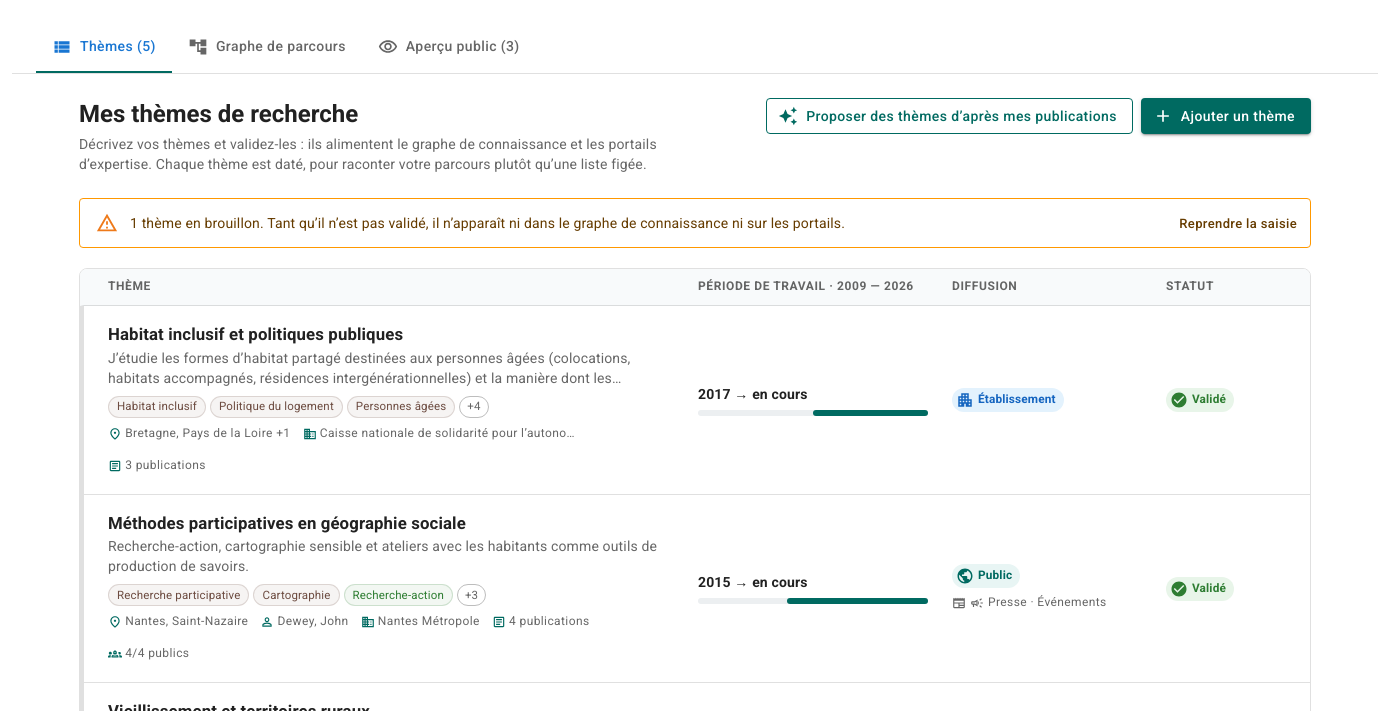
Test case: ExpertiseV2Page › ouvre l’éditeur, active les sollicitations quand le thème devient public, puis valide
What coordinates should you click on to do the following:
click the button with aria-label "Modifier le thème Habitat inclusif"
I would click on:
 (695, 400)
Its box is left=80, top=306, right=1310, bottom=494.
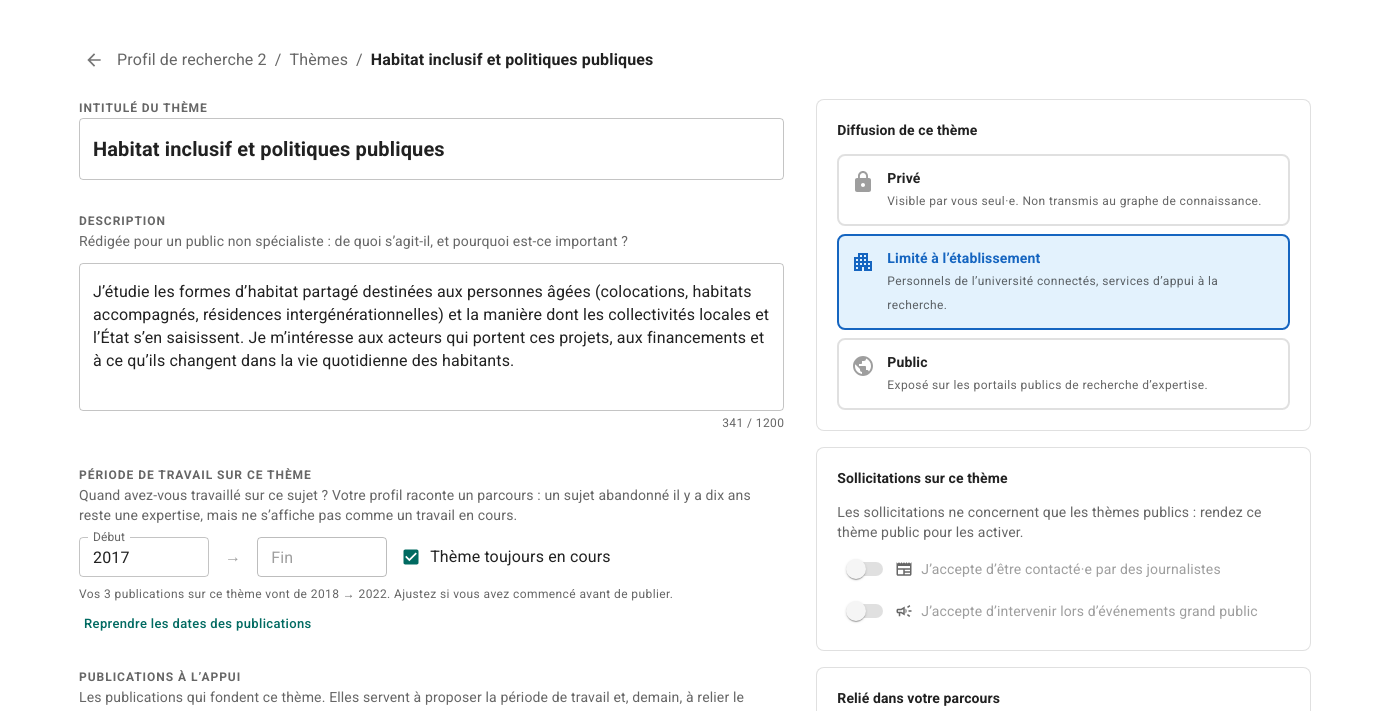
Expected: the heading "Diffusion de ce thème" is shown, left=837, top=122, right=977, bottom=138
Expected: the checkbox labelled "J’accepte d’être contacté·e par des journalistes" is disabled, left=846, top=559, right=1221, bottom=579
What coordinates should you click on to do the following:
click the radio button labelled "Public"
I would click on:
 (1064, 374)
Its box is left=837, top=338, right=1290, bottom=410.
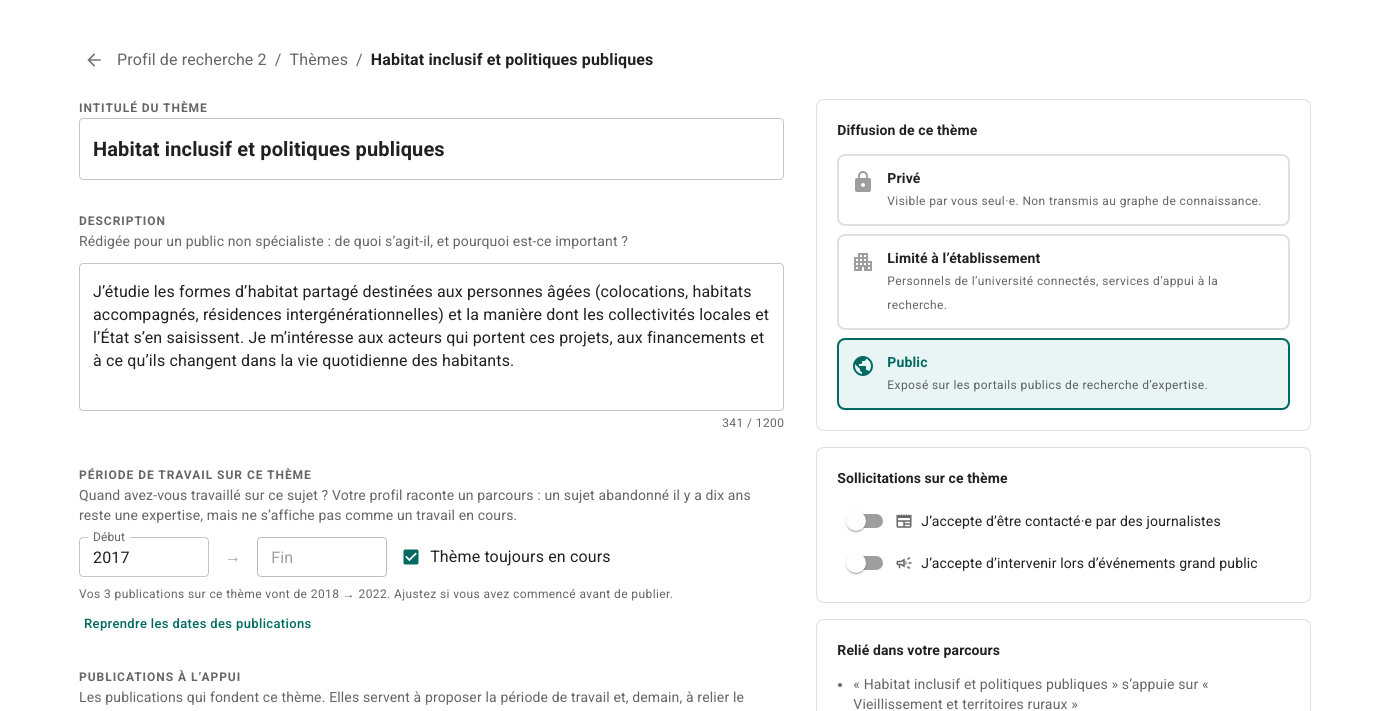
Expected: the checkbox labelled "J’accepte d’être contacté·e par des journalistes" is enabled
What coordinates should you click on to do the following:
click the checkbox labelled "J’accepte d’être contacté·e par des journalistes"
I would click on:
 (1034, 521)
Its box is left=846, top=511, right=1221, bottom=531.
(page scrolled)
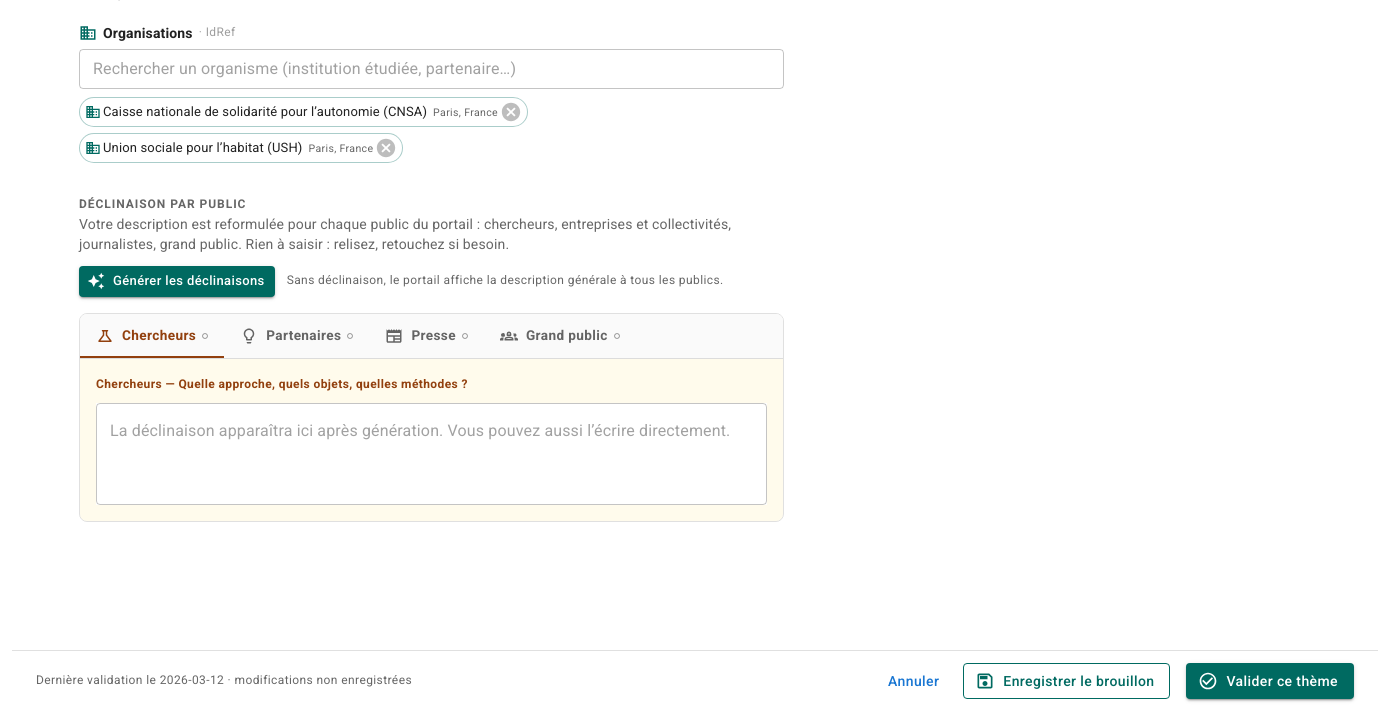
What coordinates should you click on to do the following:
click the button "Valider ce thème"
I would click on:
 (1270, 681)
Its box is left=1186, top=663, right=1354, bottom=699.
(page scrolled)
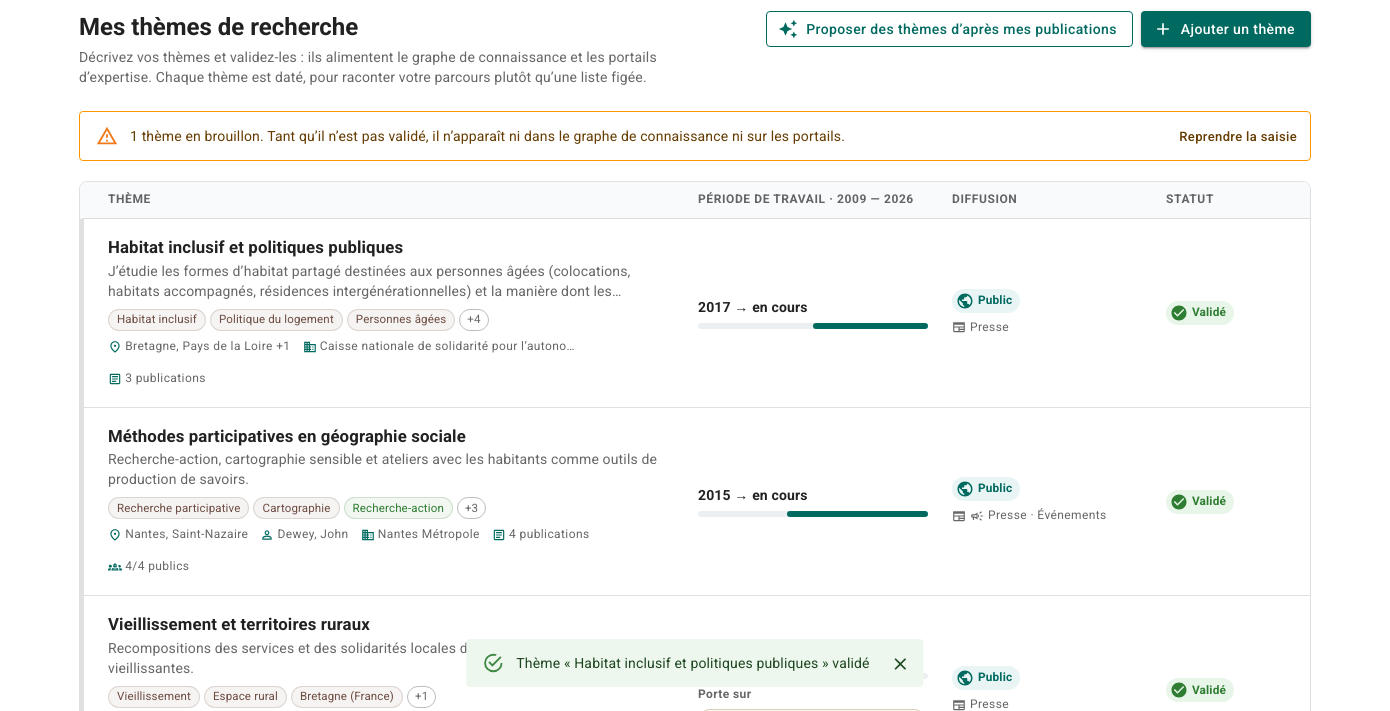
Expected: the 1st text "Public" is shown, left=978, top=293, right=1012, bottom=307
Expected: the 1st text "Presse" is shown, left=970, top=318, right=1009, bottom=337
